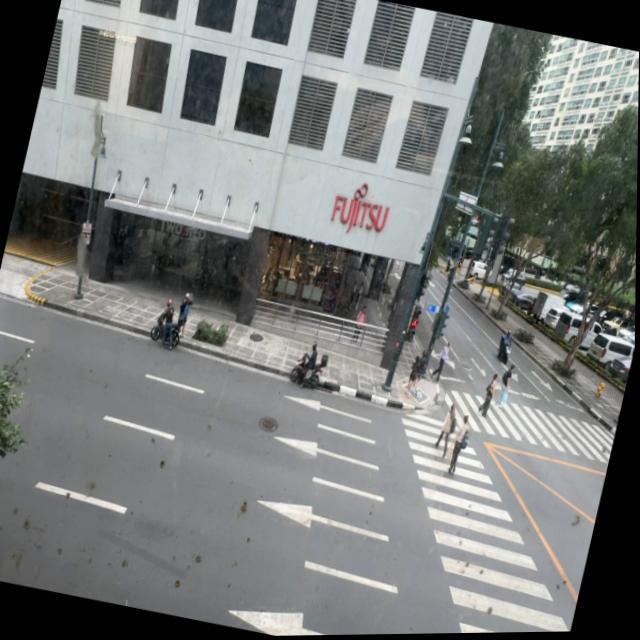jaywalking: (430, 338, 456, 389)
